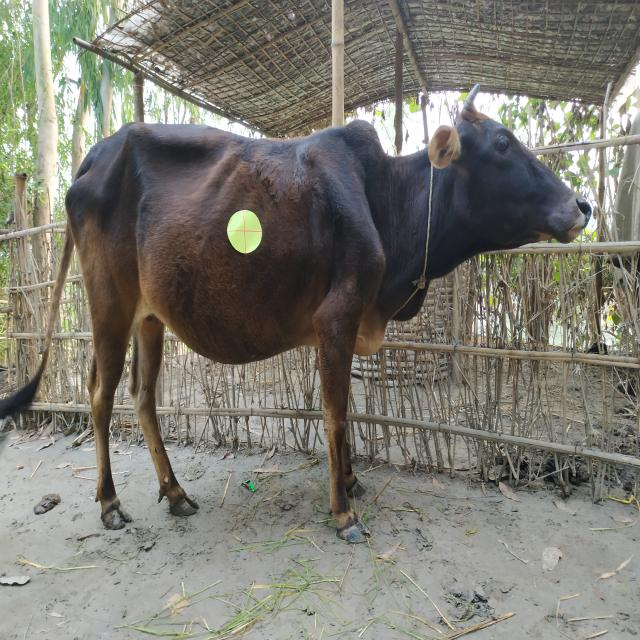badan_sapi: (67, 137, 390, 359)
sapi: (56, 90, 603, 565)
